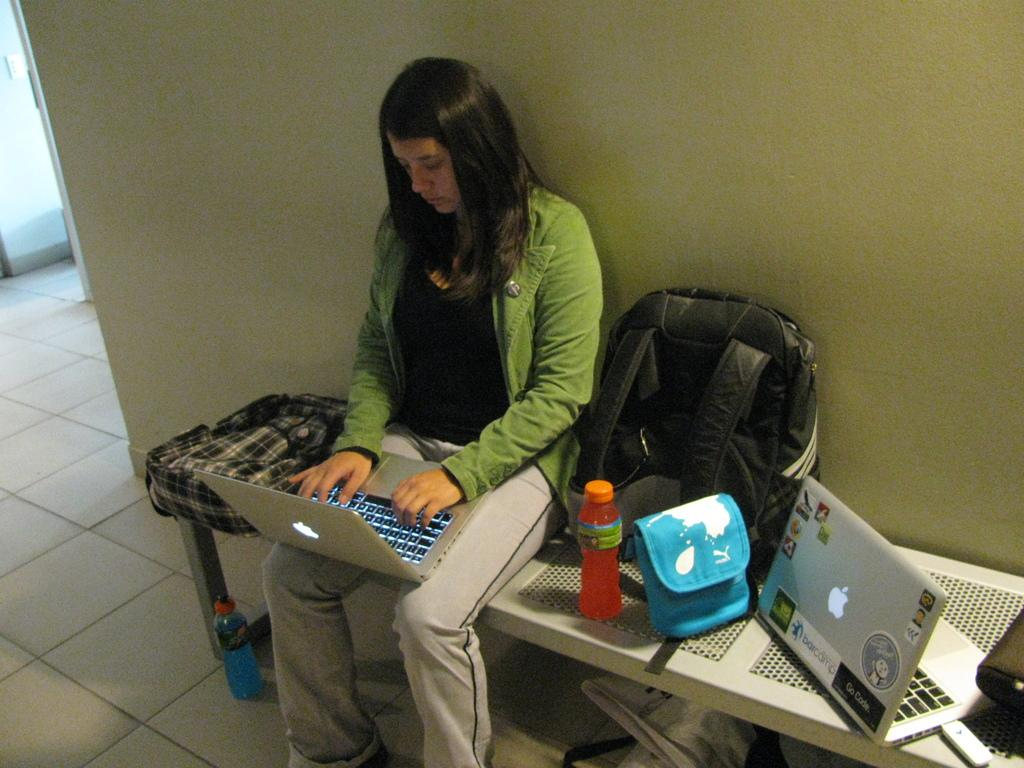Luggage-and-bags: (564, 288, 840, 579), (149, 393, 346, 540)
